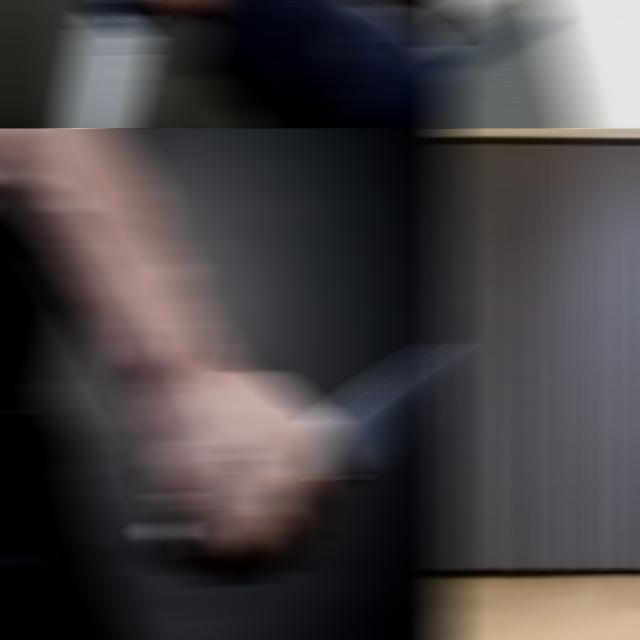Knife: (316, 343, 458, 483), (67, 0, 158, 128)
Knife_Handle: (134, 320, 458, 591), (48, 0, 252, 128)
